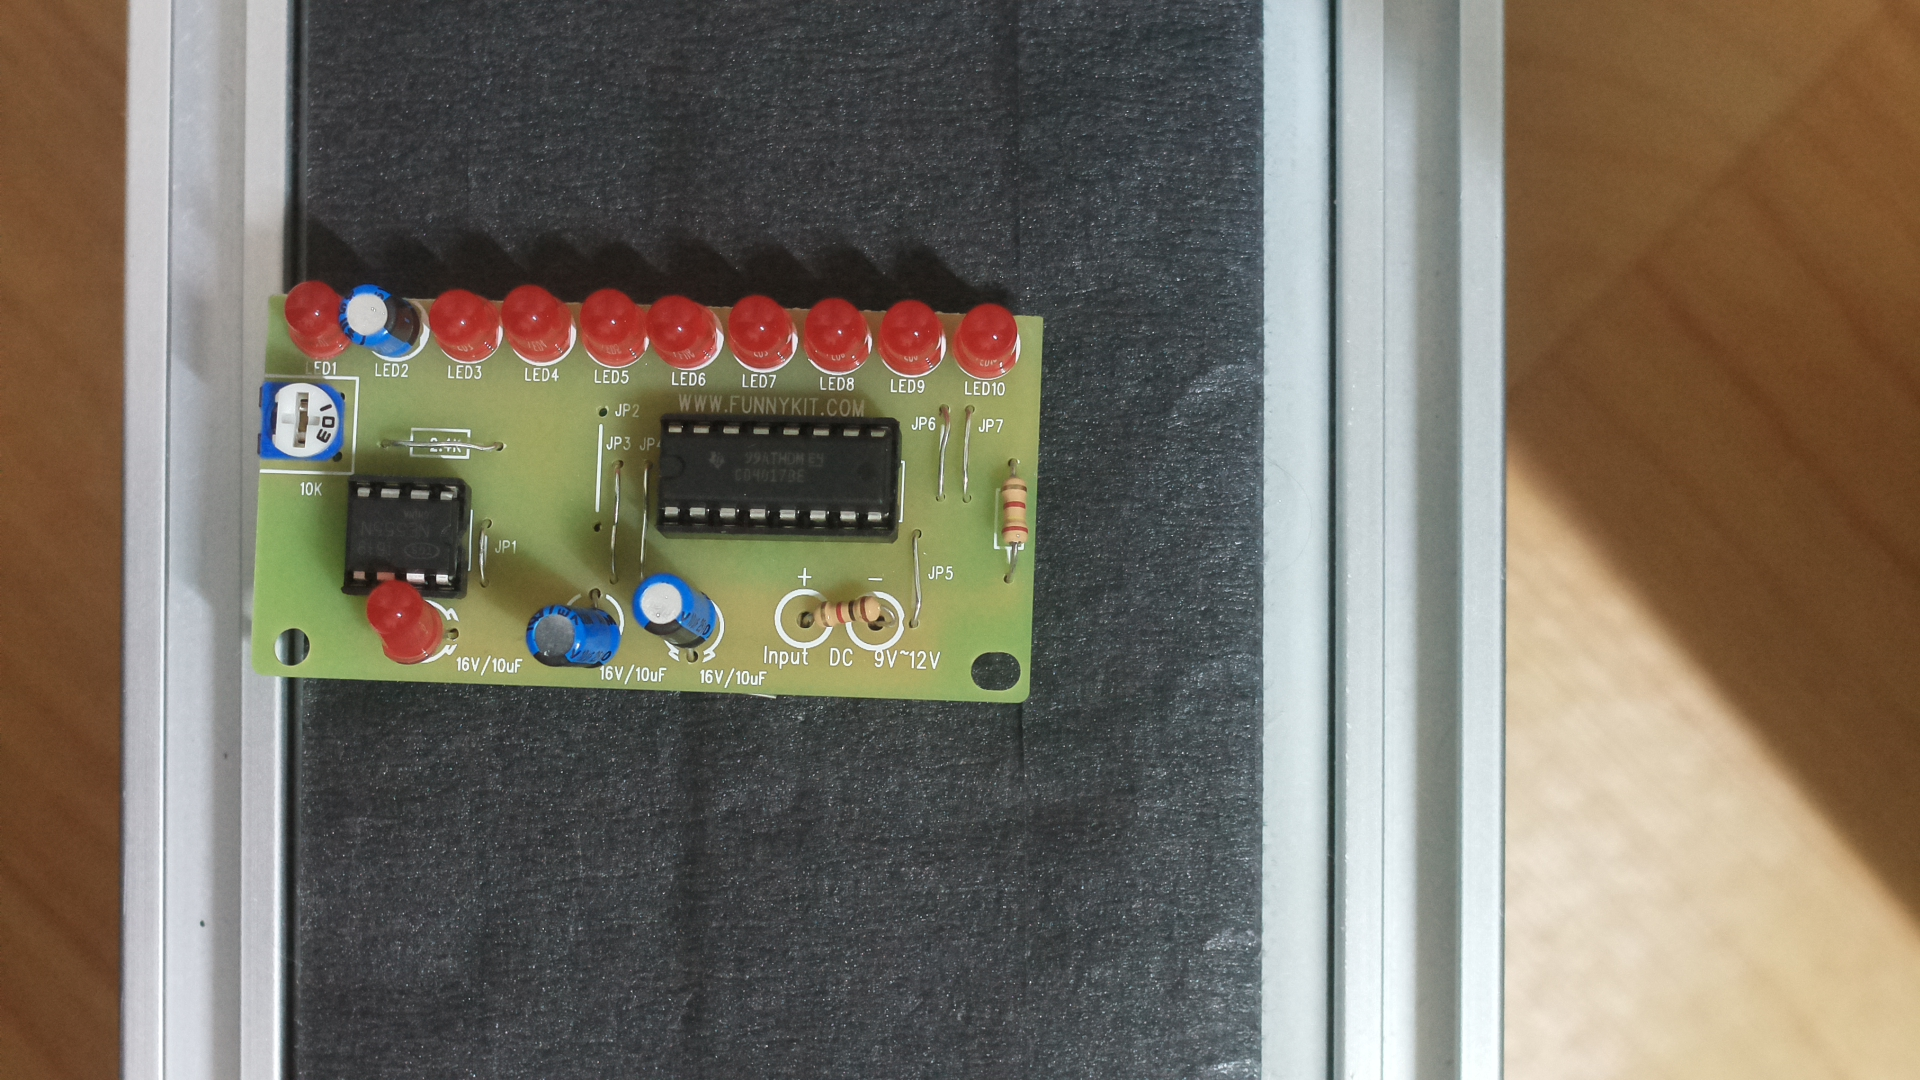B_Misordered: (231, 266, 1071, 717)
